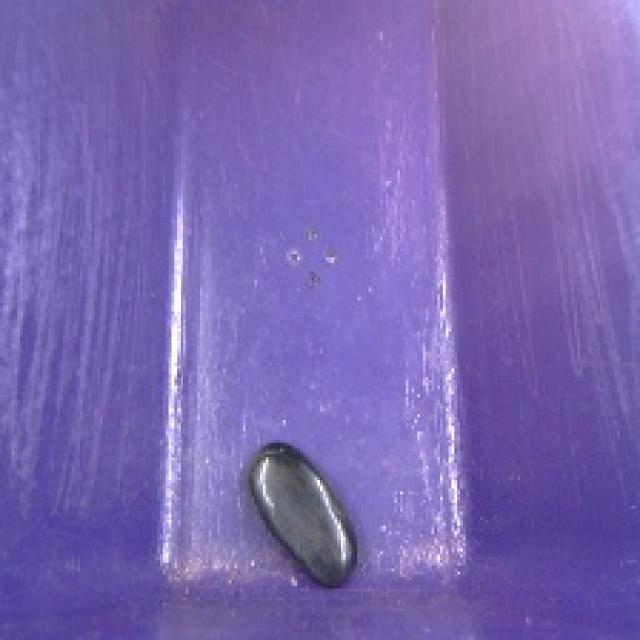cobbles: (240, 438, 360, 599)
